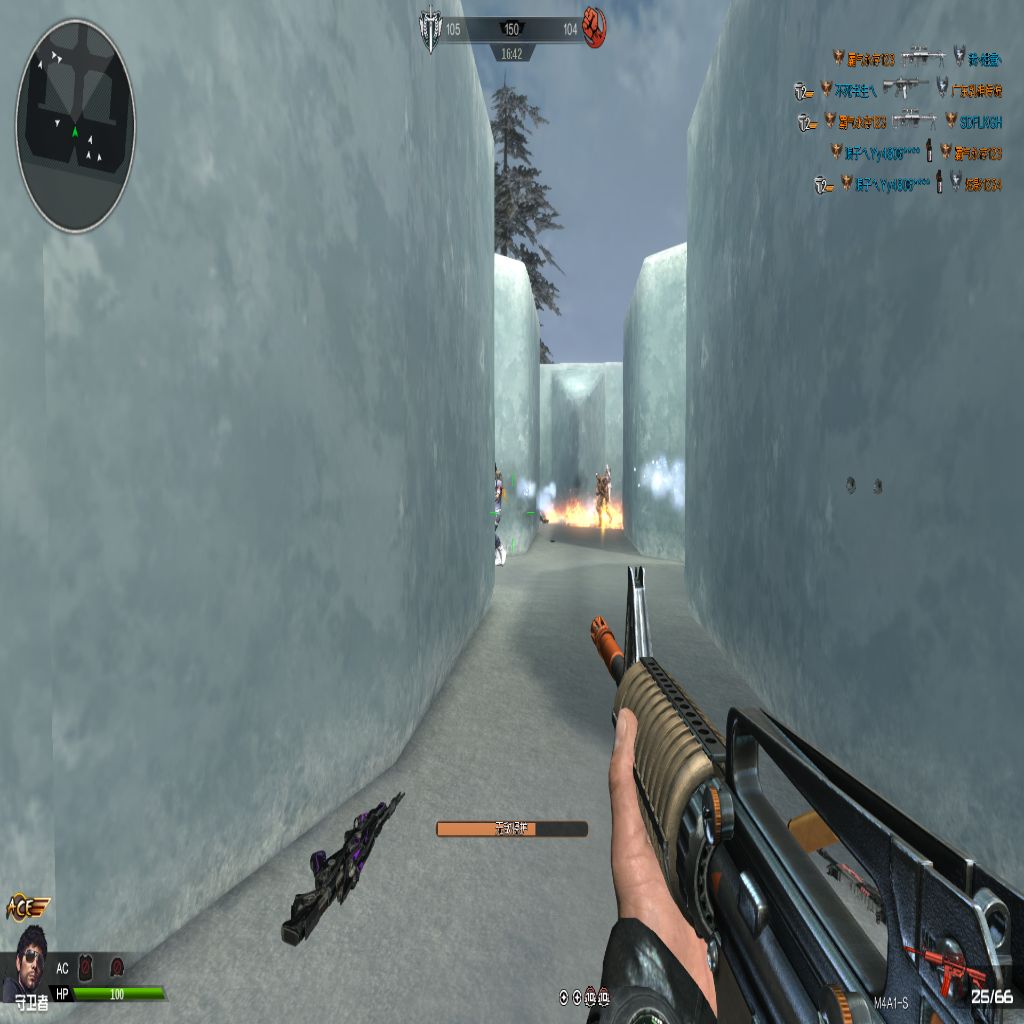tt: (594, 464, 611, 538)
